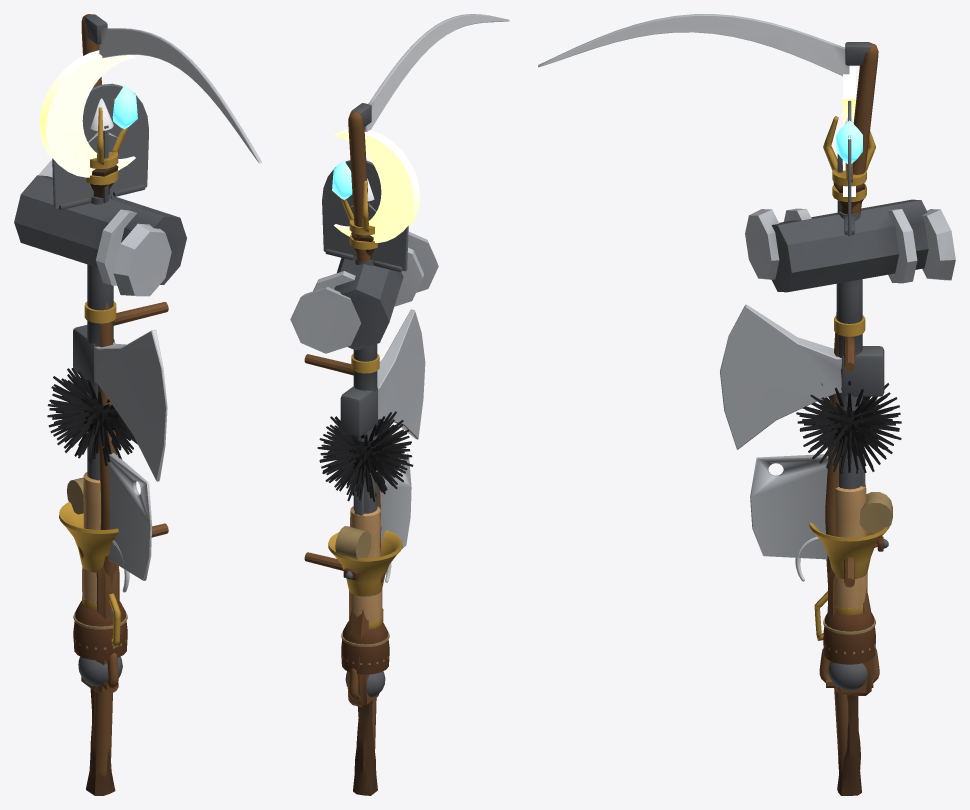
Rendered from weapons.glb.
The picture shows the model from 3 angles, left to right: view 1: azimuth 30°, elevation 25°; view 2: azimuth 150°, elevation 25°; view 3: azimuth 270°, elevation 25°; orthographic projection. The views are drawn at different scales.
Visible parts, largest first — view 1: w_hammer, w_staff, w_scythe, w_axe, w_shovel, w_broom, w_harpoongun, w_cleaver, w_hook, w_handbell, w_rollingpin; view 2: w_hammer, w_staff, w_axe, w_scythe, w_broom, w_shovel, w_harpoongun, w_hook, w_handbell, w_cleaver, w_rollingpin; view 3: w_hammer, w_axe, w_scythe, w_cleaver, w_broom, w_harpoongun, w_staff, w_hook, w_rollingpin, w_handbell, w_shovel.
Boxes of the visible parts, x1,y1,x2,y2 form: w_hammer: (14, 160, 186, 296); w_staff: (39, 50, 137, 795); w_scythe: (81, 14, 261, 776); w_axe: (73, 325, 167, 481); w_shovel: (52, 83, 148, 692); w_broom: (47, 368, 137, 686); w_harpoongun: (67, 98, 120, 692); w_cleaver: (108, 452, 152, 580); w_hook: (73, 540, 129, 660); w_handbell: (59, 502, 118, 572); w_rollingpin: (82, 472, 100, 606); w_hammer: (290, 231, 438, 353); w_staff: (332, 129, 419, 795); w_axe: (340, 309, 425, 439); w_scythe: (304, 14, 509, 750); w_broom: (317, 411, 413, 697); w_shovel: (322, 160, 408, 703); w_harpoongun: (335, 178, 383, 707); w_hook: (341, 562, 391, 674); w_handbell: (328, 530, 402, 596); w_cleaver: (354, 453, 411, 548); w_rollingpin: (349, 506, 381, 625); w_hammer: (745, 199, 955, 292); w_axe: (720, 304, 884, 449); w_scythe: (538, 14, 878, 773); w_cleaver: (750, 454, 865, 559); w_broom: (796, 380, 901, 690); w_harpoongun: (814, 117, 892, 695); w_staff: (823, 67, 875, 795); w_hook: (795, 536, 875, 664); w_rollingpin: (834, 484, 867, 610); w_handbell: (809, 522, 889, 578); w_shovel: (819, 100, 879, 687).
Size of the model in its own units: 0.32 by 1.99 by 0.9656.
